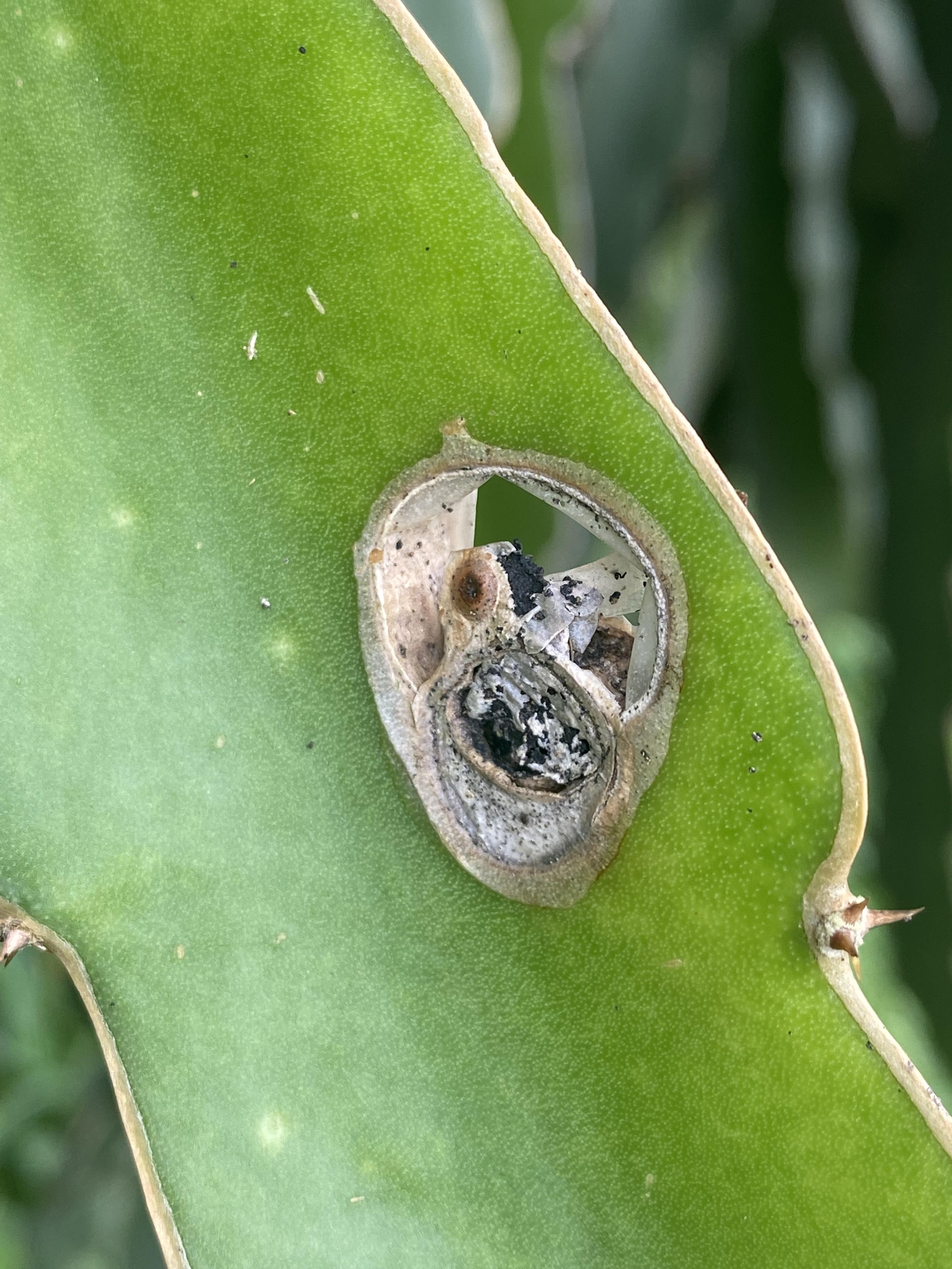stemcanker: (351, 416, 696, 922)
